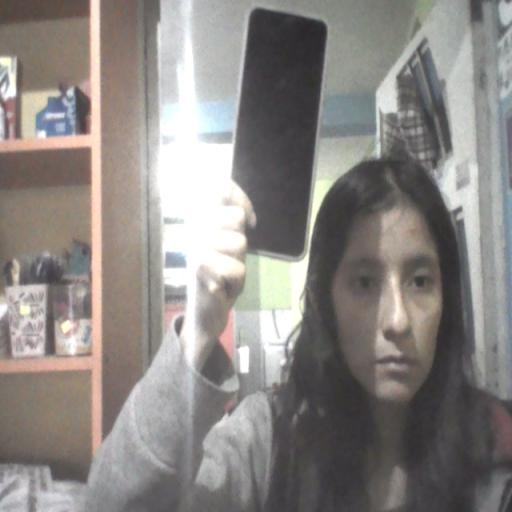phone: (221, 0, 334, 262)
